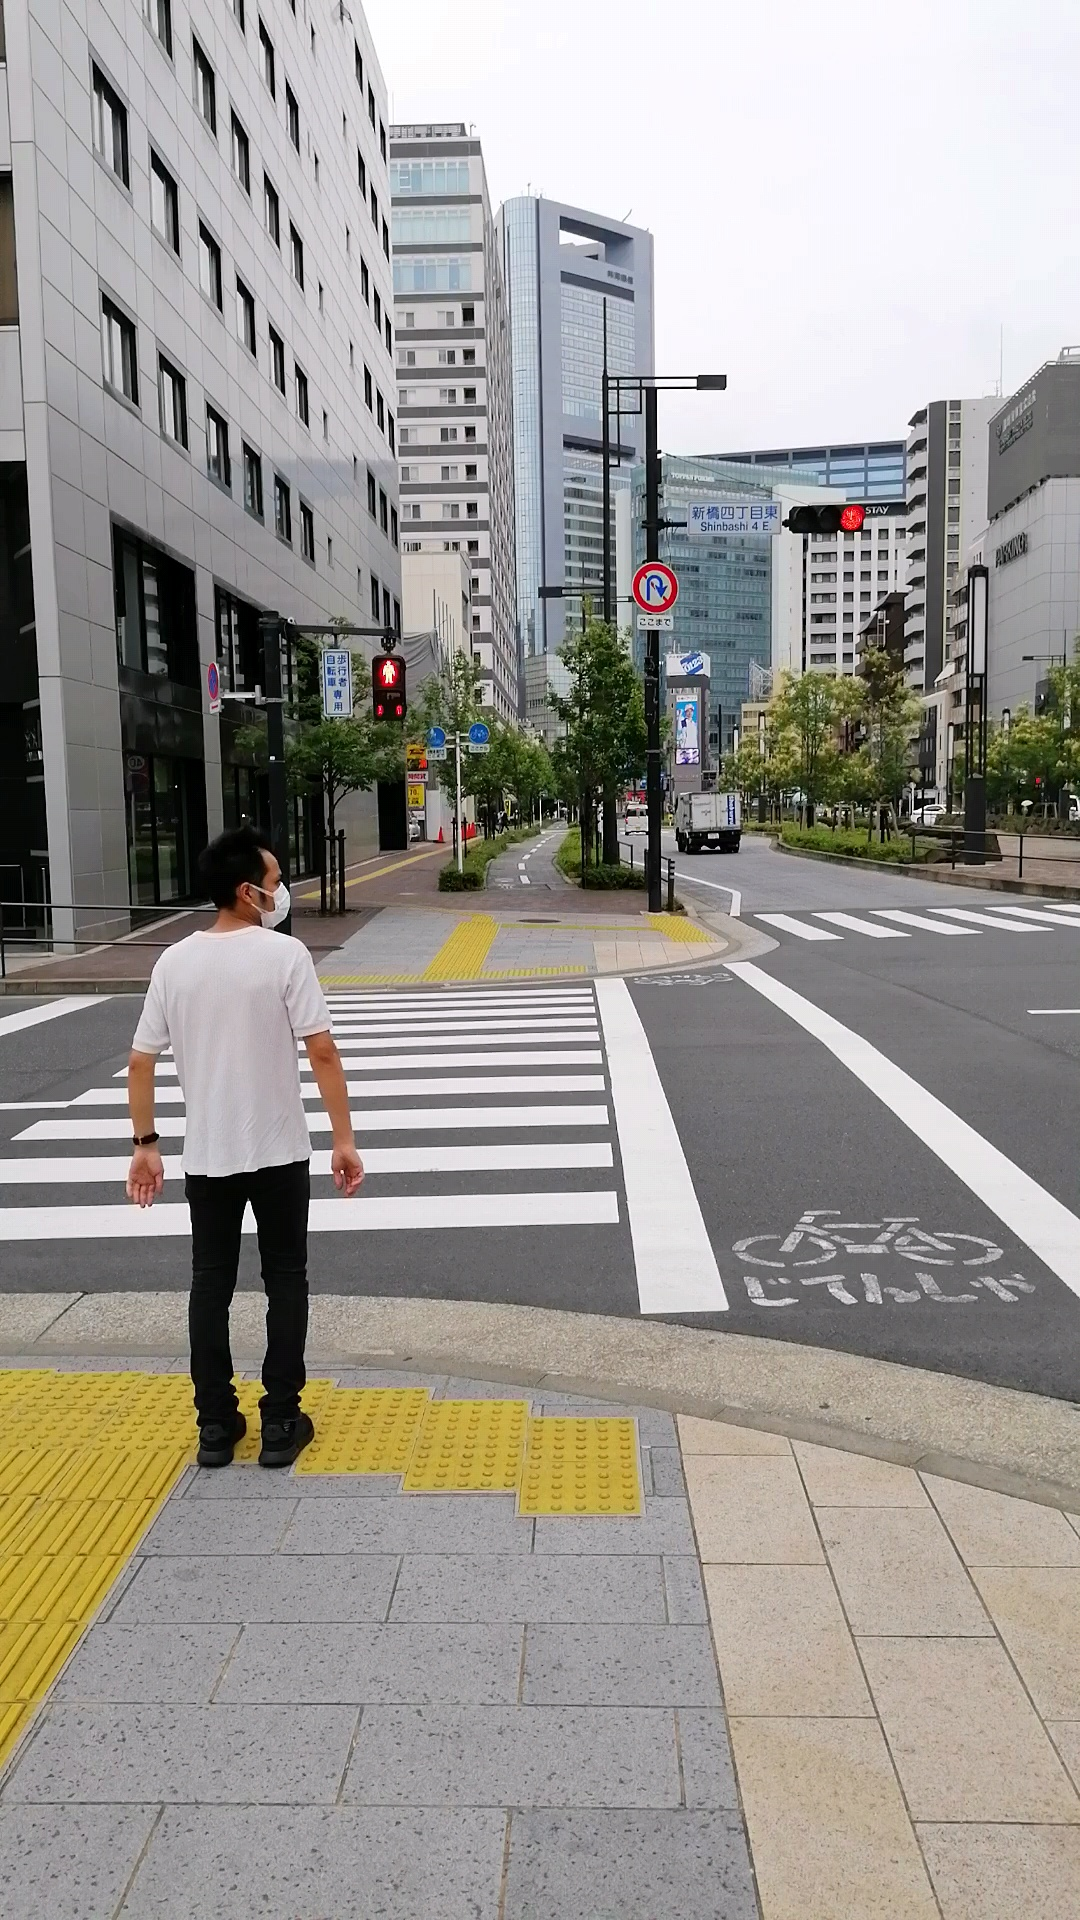red: (371, 653, 406, 721)
